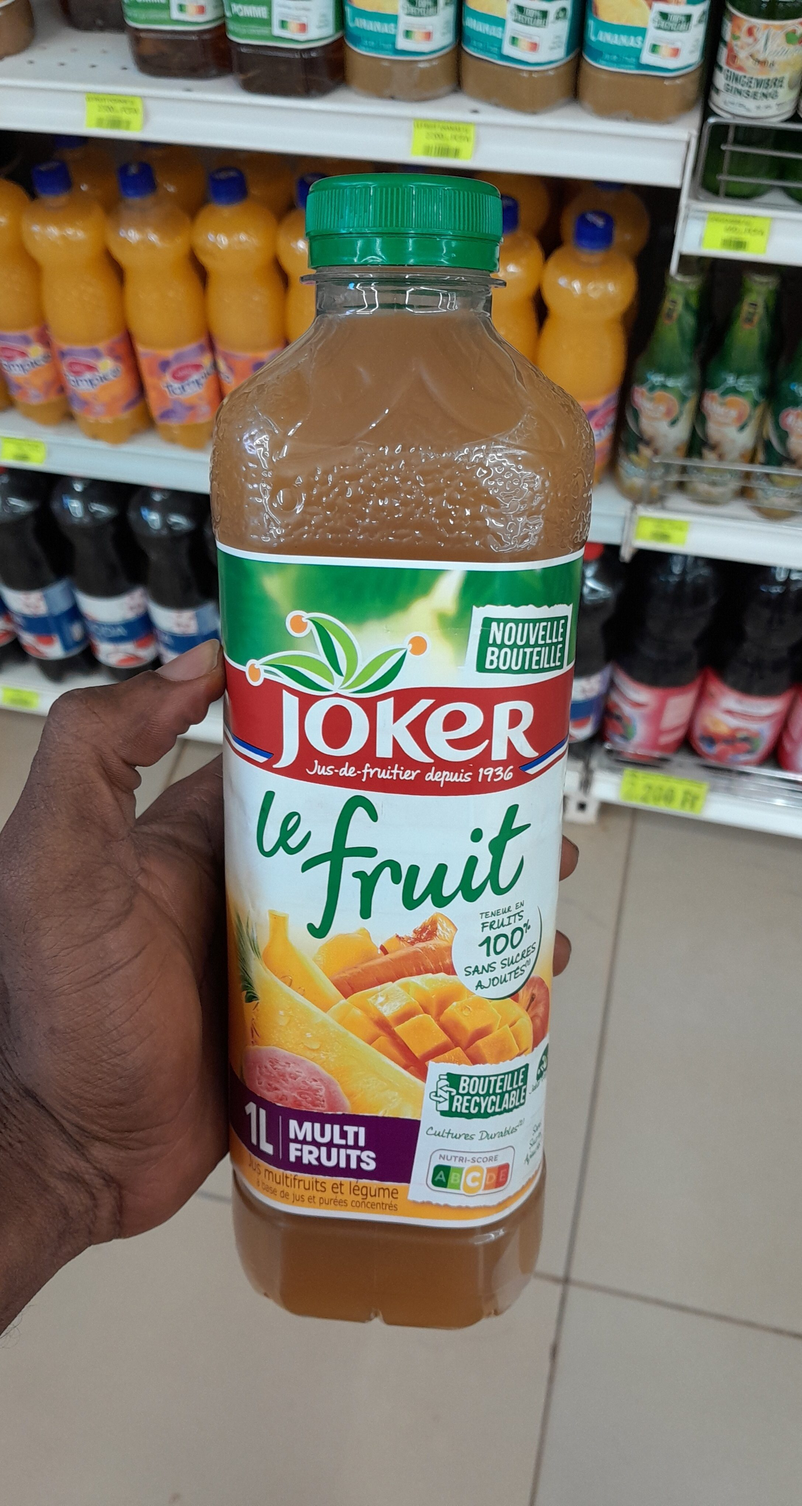Jus joker multifruit: (40, 75, 762, 1431)
